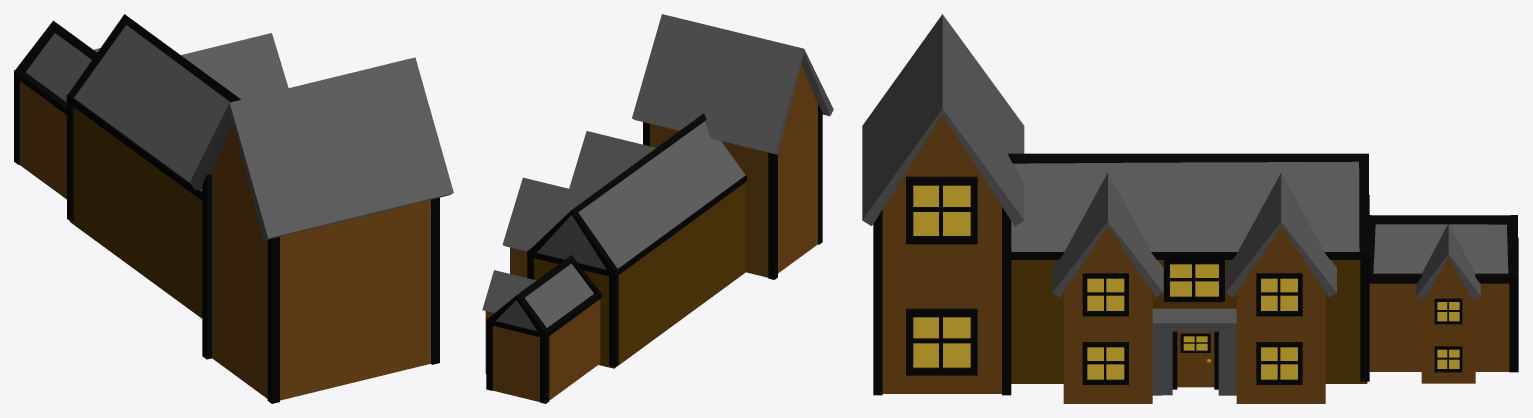
Rendered from Manor.fbx.
The picture shows the model from 3 angles, left to right: view 1: azimuth 30°, elevation 25°; view 2: azimuth 150°, elevation 25°; view 3: azimuth 270°, elevation 25°; orthographic projection. The views are drawn at different scales.
Parts seen in each view (by area): view 1: pCube56; view 2: pCube56; view 3: pCube56.
Part boxes in pixels (<box>): pCube56: <box>14,14,453,403</box>; pCube56: <box>482,14,833,403</box>; pCube56: <box>862,14,1518,403</box>.
Size of the model in its own units: 5.33 by 6.95 by 14.2.
Materials: 1 (1 with a texture image).
